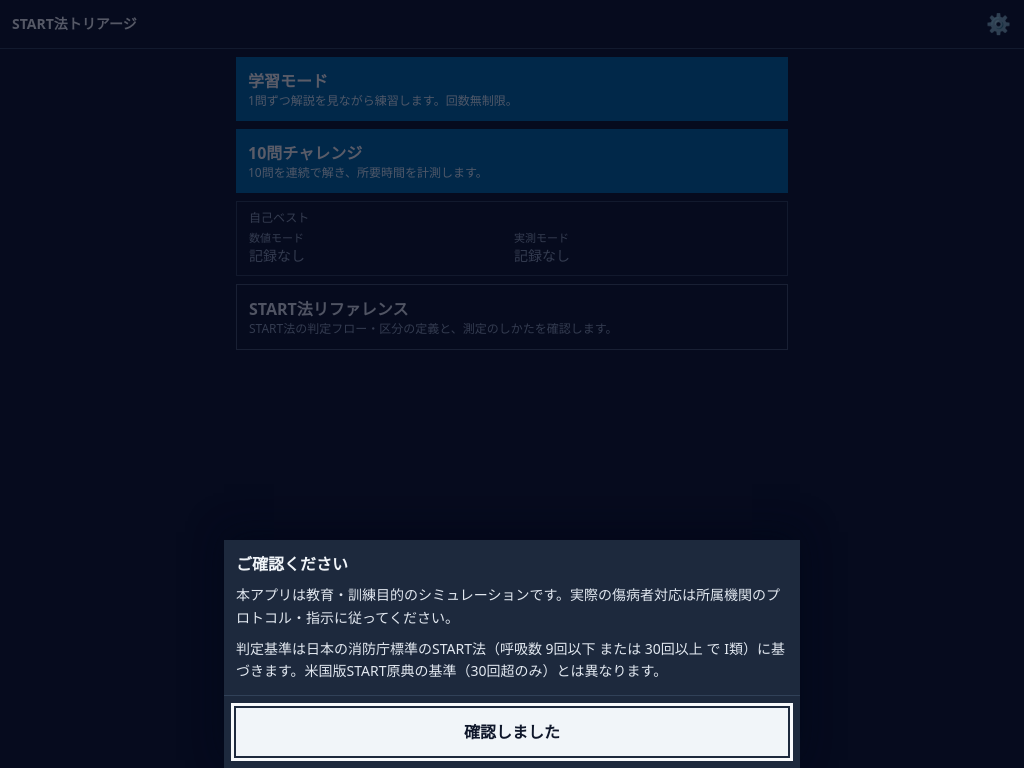
Scenario: 常時表示を減らす（SPEC §5.1） › 設定シートから提示方式と言語にたどり着ける
Click the button "確認しました" at x=512, y=732, box [236,708,788,756]
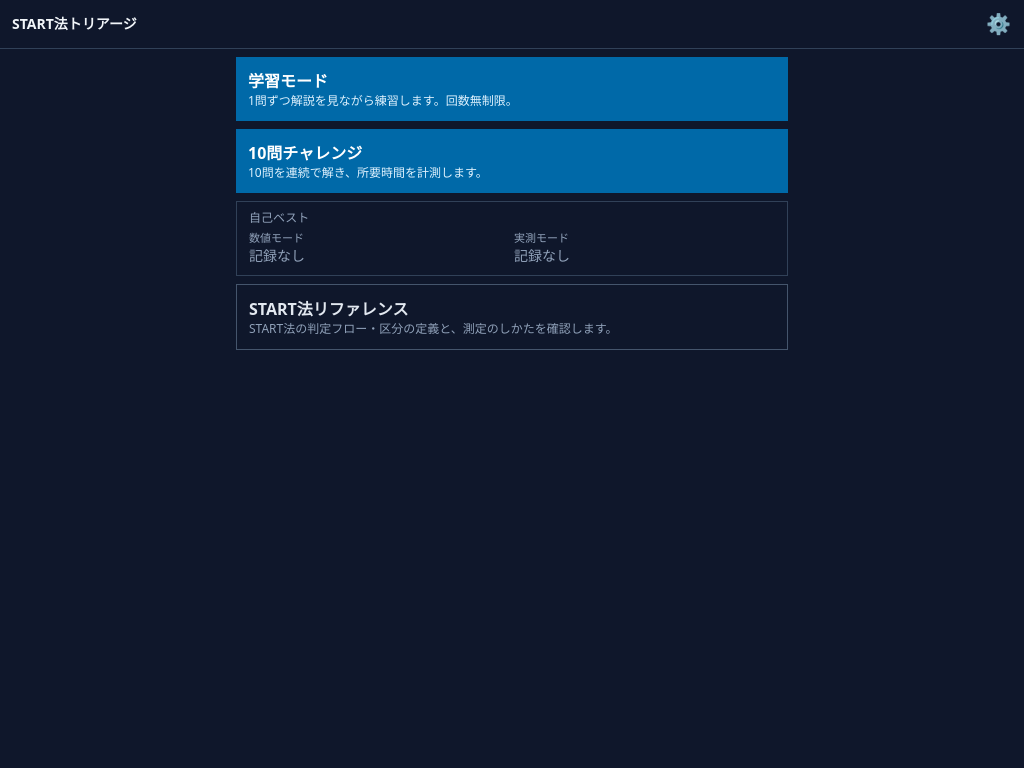
Click the button named "設定を開く" at x=998, y=24, box [980,6,1016,42]
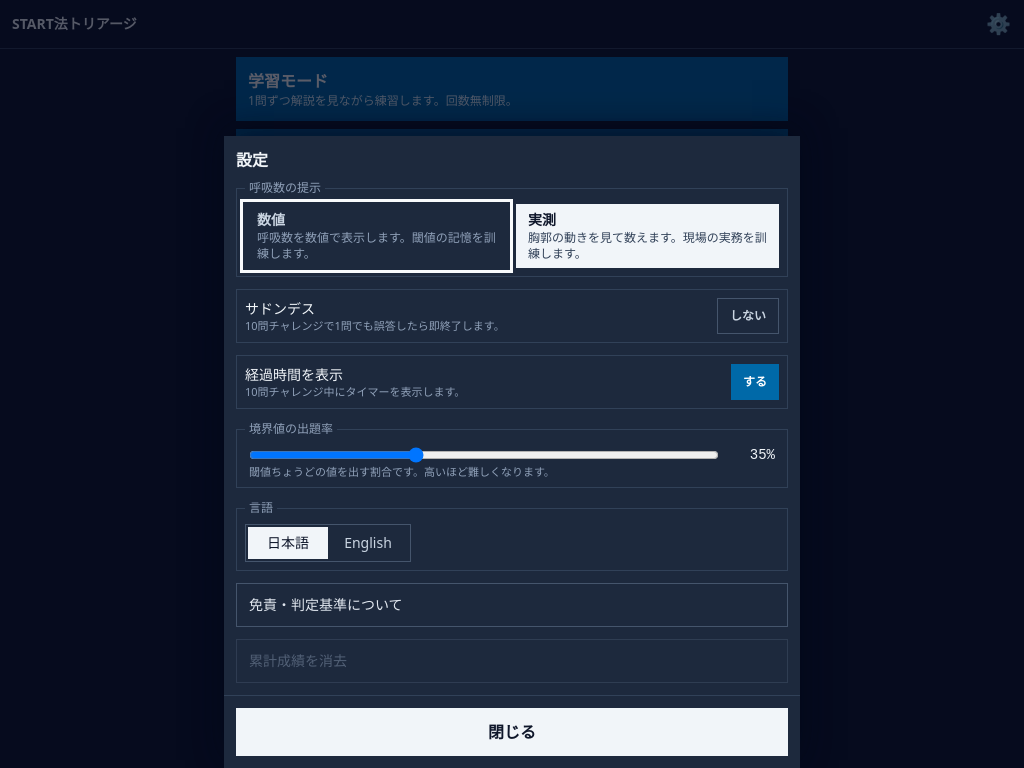
Check: the button "English" is shown, box [328,527,408,559]
Check: the text "呼吸数の提示" is shown, box [245,180,325,196]
